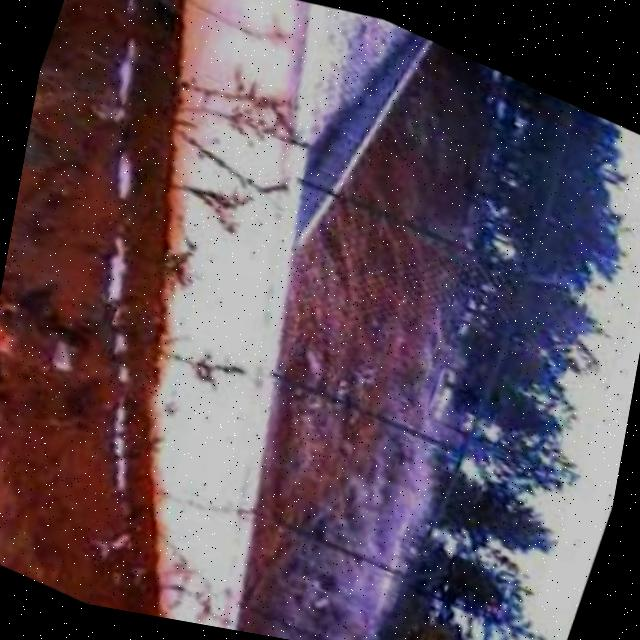fire: (0, 281, 52, 450)
